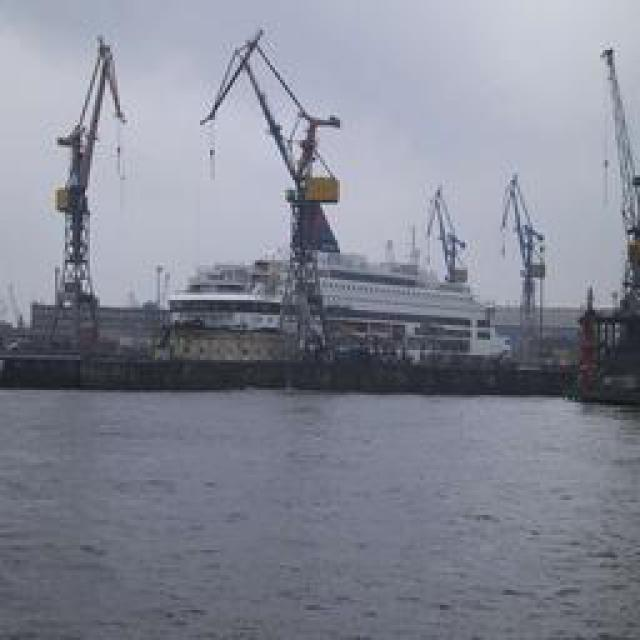Ship: (159, 29, 524, 374)
